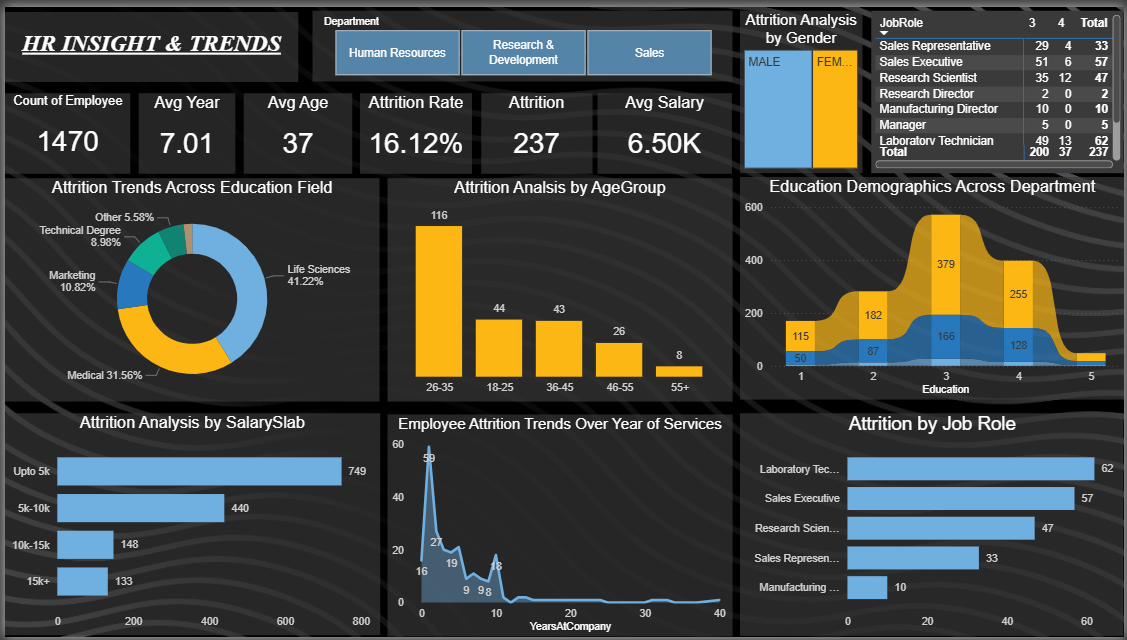

This screenshot's page, from the dashboard's own definition file:
{"tool":"powerbi","page":{"name":"Hr insight","canvas":[1280,720],"ordinal":0},"visuals":[{"type":"card","title":"Avg Age","fields":{"Values":["Measure.Avg_Age"]},"box":[272.4,98.3,124.4,92.1],"z":0},{"type":"card","title":"Count of Employee","fields":{"Values":["Measure.Total Employees"]},"box":[0,98.2,143.6,92],"z":1000},{"type":"card","title":"Attrition","fields":{"Values":["Measure.Attribution Count"]},"box":[543.6,98.3,126.9,92.1],"z":2000},{"type":"card","title":"Attrition Rate","fields":{"Values":["Measure.Attiriton Rate"]},"box":[405.5,98.3,128.1,92.1],"z":3000},{"type":"card","title":"Avg Salary","fields":{"Values":["Measure.Avg_salary"]},"box":[677.3,98.2,153.4,92],"z":4000},{"type":"card","title":"Avg Year","fields":{"Values":["Measure.Avg_year"]},"box":[152.1,98.2,110.4,92],"z":5000},{"type":"treemap","title":"Attrition Analysis by Gender","fields":{"Group":["HR_Analytics.Gender"],"Values":["CountNonNull(HR_Analytics.Attrition)"]},"box":[840.5,4.9,139.9,185.3],"z":6000},{"type":"clusteredBarChart","title":"Attrition Analysis by SalarySlab","fields":{"Category":["HR_Analytics.SalarySlab"],"Y":["CountNonNull(HR_Analytics.Attrition)"]},"box":[0,464.2,428.5,253.8],"z":7000},{"type":"pivotTable","fields":{"Rows":["HR_Analytics.JobRole"],"Values":["Measure.Attribution Count"],"Columns":["HR_Analytics.PerformanceRating"]},"box":[990.2,5,289.8,185.3],"z":8000},{"type":"donutChart","title":"Attrition Trends Across Education Field","fields":{"Category":["HR_Analytics.EducationField"],"Y":["CountNonNull(HR_Analytics.Attrition)"]},"box":[0,195.1,428.2,255.2],"z":9000},{"type":"clusteredColumnChart","title":"Attrition Analsis by AgeGroup","fields":{"Y":["Sum(HR_Analytics.Attrition count)"],"Category":["HR_Analytics.AgeGroup"]},"box":[436.6,195.3,394.3,255],"z":10000},{"type":"ribbonChart","title":"Education Demographics Across Department","fields":{"Category":["HR_Analytics.Education"],"Y":["Sum(HR_Analytics.EmployeeCount)"],"Series":["HR_Analytics.Department"]},"box":[840.3,194.8,439.7,254.6],"z":11000},{"type":"stackedAreaChart","title":"Employee Attrition Trends Over Year of Services","fields":{"Category":["HR_Analytics.YearsAtCompany"],"Y":["Sum(HR_Analytics.Attrition count)"]},"box":[436.6,465.2,394.3,253.8],"z":12000},{"type":"clusteredBarChart","title":"Attrition by Job Role","fields":{"Category":["HR_Analytics.JobRole"],"Y":["Sum(HR_Analytics.Attrition count)"]},"box":[840.7,464.3,439.6,254.1],"z":13000},{"type":"slicer","fields":{"Values":["HR_Analytics.Department"]},"box":[350.8,5,480.2,80.9],"z":14000},{"type":"textbox","box":[0,6.1,335,79.8],"z":15000}]}

Visuals, with their boxes in screenshot pixels (x1, y1, x2, y2), scaled from the page's 1280x720 canvas onto the 1127x640 screenshot:
"Avg Age" card: 240 87 349 169
"Count of Employee" card: 0 87 126 169
"Attrition" card: 479 87 590 169
"Attrition Rate" card: 357 87 470 169
"Avg Salary" card: 596 87 731 169
"Avg Year" card: 134 87 231 169
"Attrition Analysis by Gender" treemap: 740 4 863 169
"Attrition Analysis by SalarySlab" clusteredBarChart: 0 413 377 638
pivotTable - HR_Analytics.JobRole x Measure.Attribution Count: 872 4 1126 169
"Attrition Trends Across Education Field" donutChart: 0 173 377 400
"Attrition Analsis by AgeGroup" clusteredColumnChart: 384 174 732 400
"Education Demographics Across Department" ribbonChart: 740 173 1126 399
"Employee Attrition Trends Over Year of Services" stackedAreaChart: 384 414 732 639
"Attrition by Job Role" clusteredBarChart: 740 413 1126 639
slicer - HR_Analytics.Department: 309 4 732 76
textbox: 0 5 295 76
